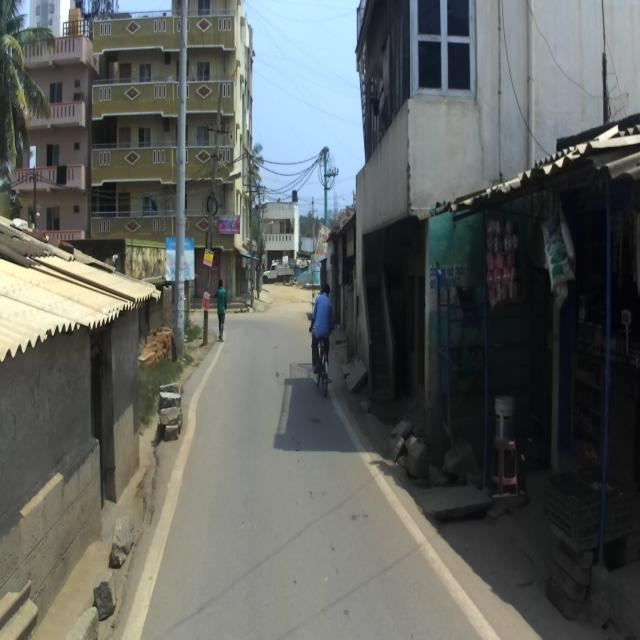bicycle ahead at: (302, 346, 342, 407)
person ahead at: (212, 274, 227, 346)
stones ahead at: (154, 370, 184, 445), (392, 412, 426, 478)
